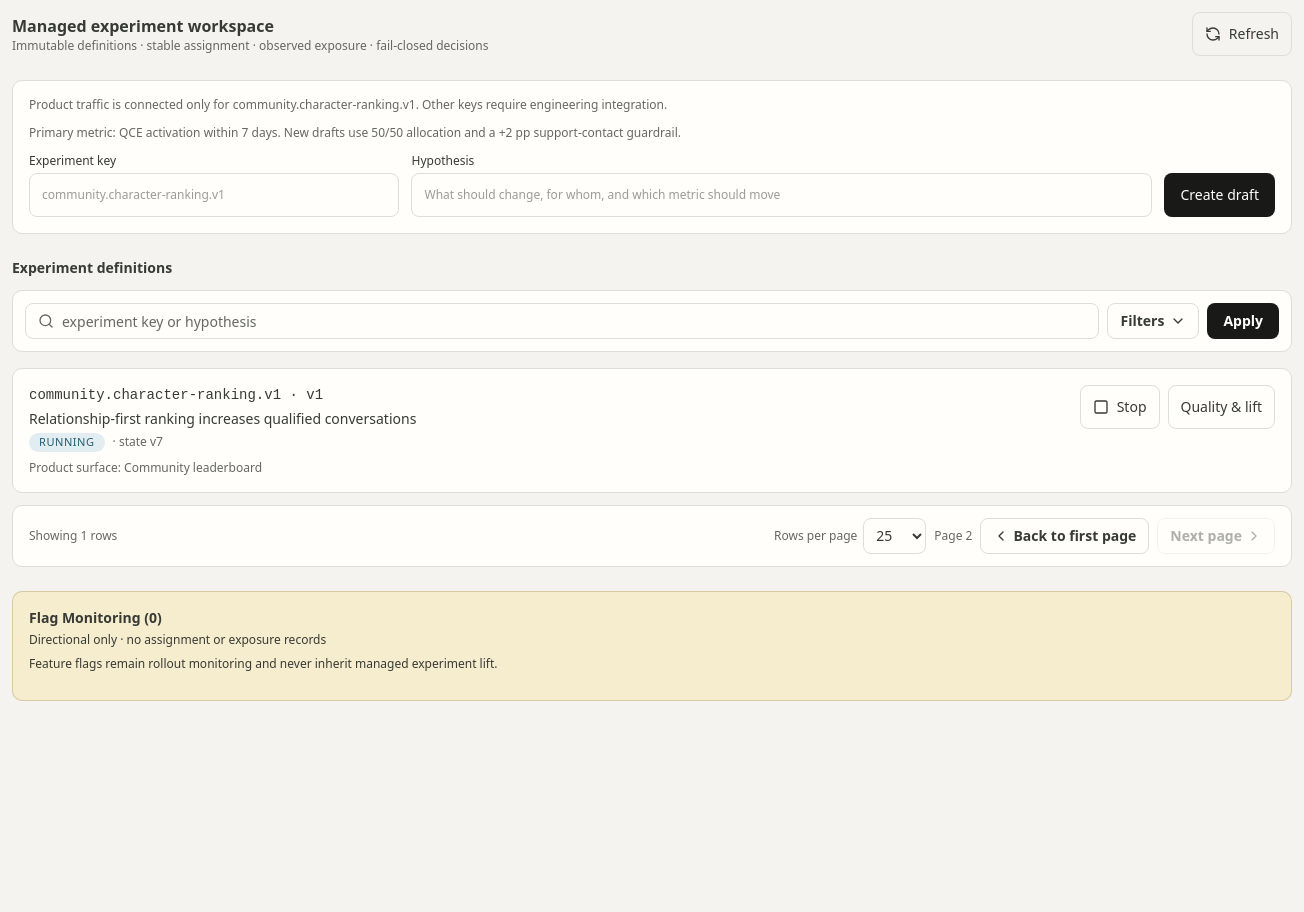
ExperimentsView lifecycle commands › returns to the first page from a shared cursor link without inventing previous cursor evidence
The width and height of the screenshot is (1304, 912).
Click the button "Back to first page": x=1065, y=536 [980,518,1149,554]
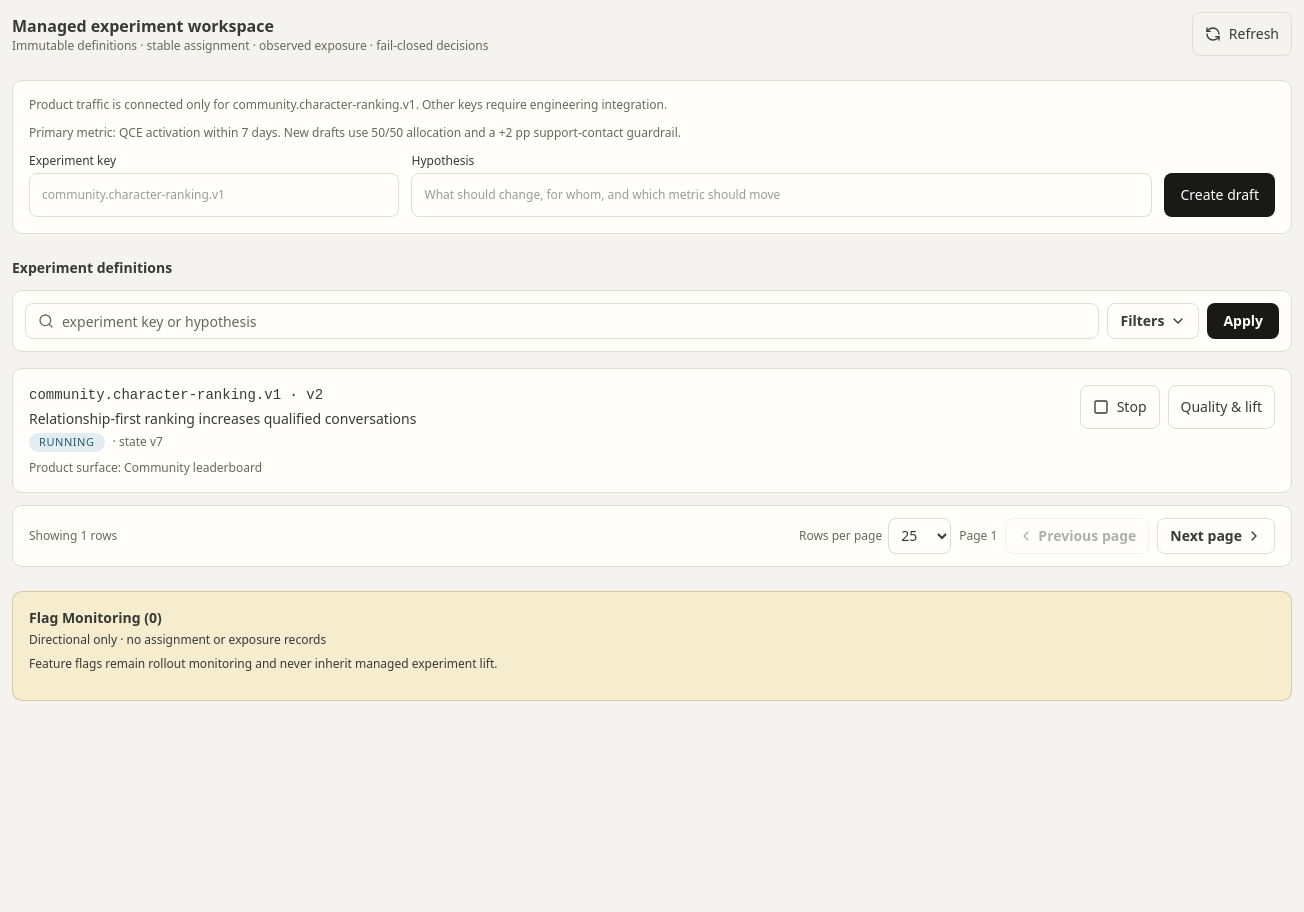
Now the element with test id "admin-pagination" shows "Page 1", box [959,527,997,544]
